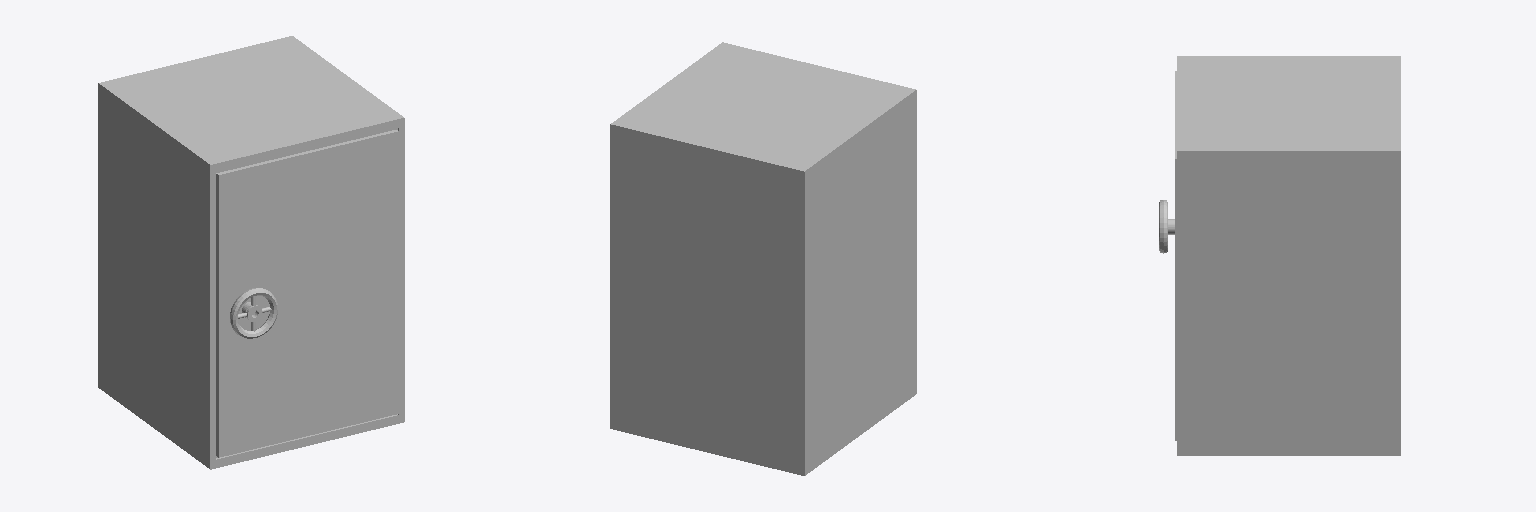
The model's file is Safe.obj.
3 renders of one model, left to right at view 1: azimuth 30°, elevation 25°; view 2: azimuth 150°, elevation 25°; view 3: azimuth 270°, elevation 25°, orthographic.
Parts seen in each view (by area): view 1: Cube_Cube.001; view 2: Cube_Cube.001; view 3: Cube_Cube.001.
Boxes of the visible parts, x1=… form: Cube_Cube.001: x1=98, y1=36, x2=404, y2=469; Cube_Cube.001: x1=610, y1=42, x2=916, y2=475; Cube_Cube.001: x1=1159, y1=56, x2=1400, y2=455.
Size of the model in its own units: 1.2 by 1.8 by 1.3.